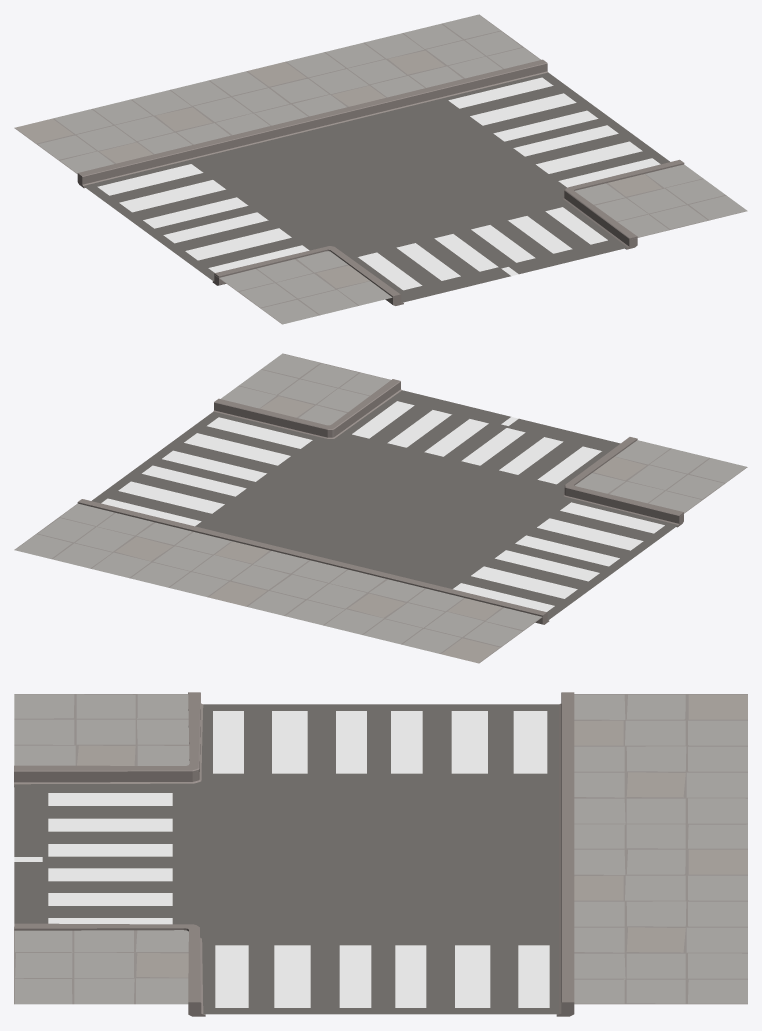
File: Road_18.fbx
3 renders of one model, top to bottom at view 1: azimuth 30°, elevation 25°; view 2: azimuth 150°, elevation 25°; view 3: azimuth 270°, elevation 25°, orthographic. The views are drawn at different scales.
Visible parts, largest first — view 1: Road_18; view 2: Road_18; view 3: Road_18.
Part boxes in pixels (box(x1,y1,x2,y2)): Road_18: box(14, 14, 747, 324); Road_18: box(14, 353, 747, 663); Road_18: box(14, 692, 747, 1016).
Size of the model in its own units: 24.02 by 0.5208 by 24.01.
